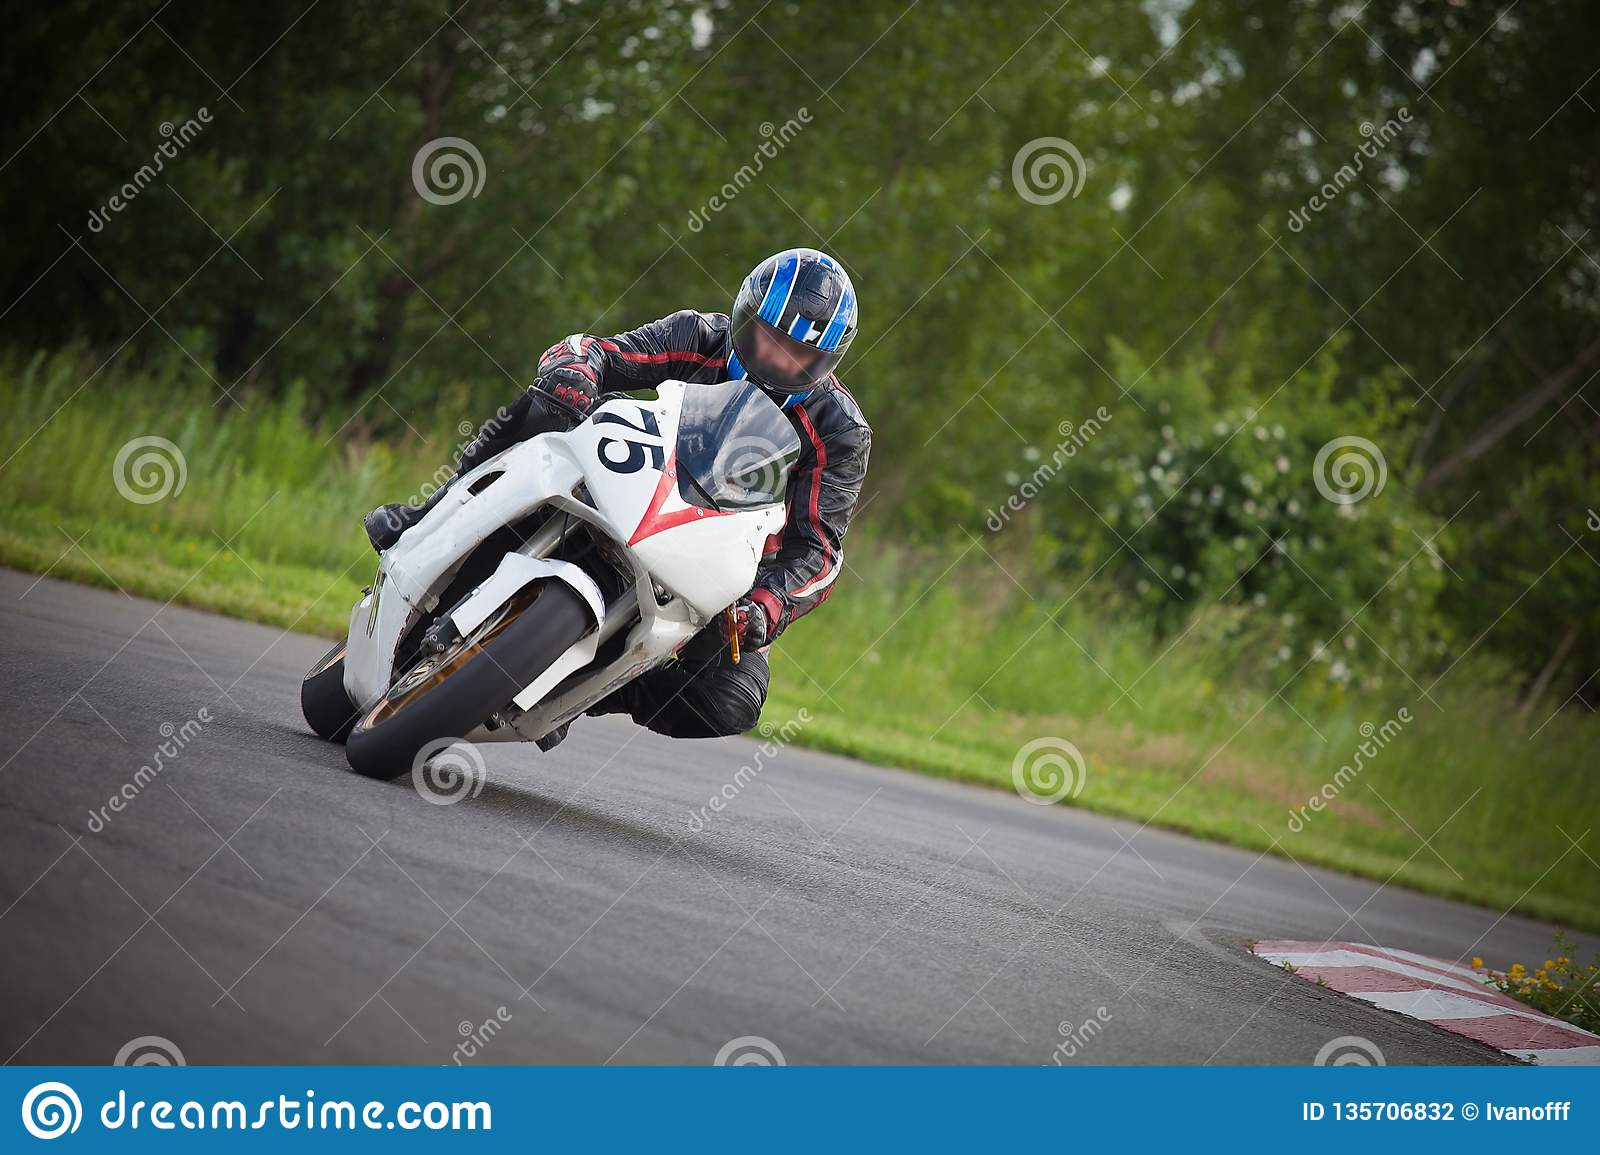helmet: (740, 240, 862, 392)
